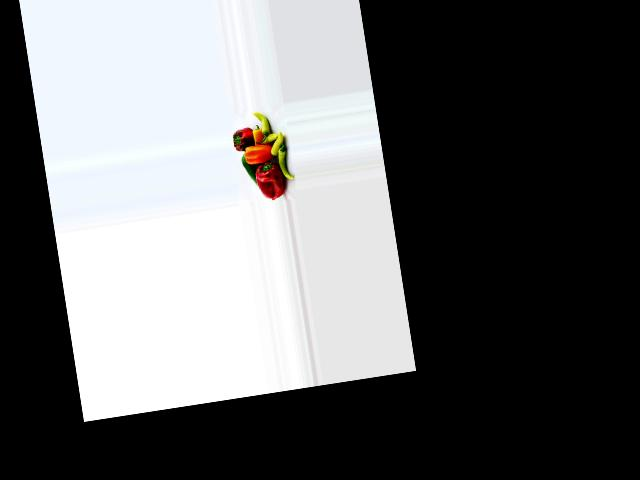bell_pepper: (276, 140, 294, 183)
